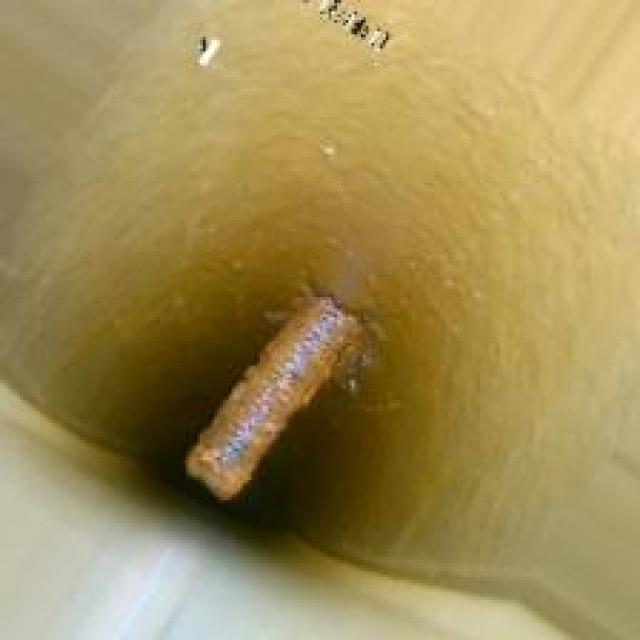ferrule: (177, 286, 380, 506)
